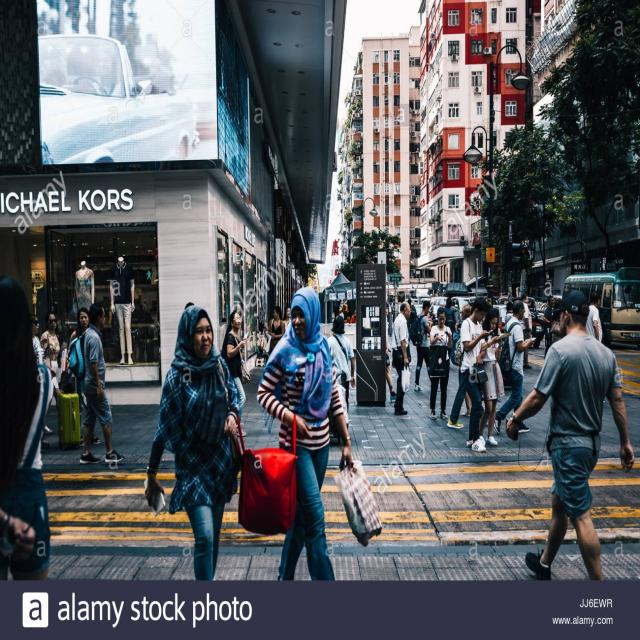body: (503, 289, 637, 581), (254, 285, 357, 581), (143, 304, 243, 580), (385, 282, 640, 364), (0, 274, 56, 580), (31, 255, 159, 366), (66, 299, 126, 466), (0, 410, 39, 595), (491, 298, 536, 435), (66, 305, 102, 447), (459, 294, 490, 454), (478, 307, 506, 447), (39, 309, 68, 435), (326, 314, 357, 431), (221, 310, 248, 438), (409, 300, 441, 393), (428, 304, 453, 420), (390, 299, 412, 417), (446, 374, 489, 429), (454, 303, 472, 418), (383, 299, 398, 403), (518, 293, 533, 370), (265, 306, 285, 355), (585, 290, 603, 343), (542, 294, 556, 362), (30, 312, 46, 367), (444, 297, 457, 364), (282, 306, 292, 332), (182, 299, 196, 315), (344, 310, 357, 323)
